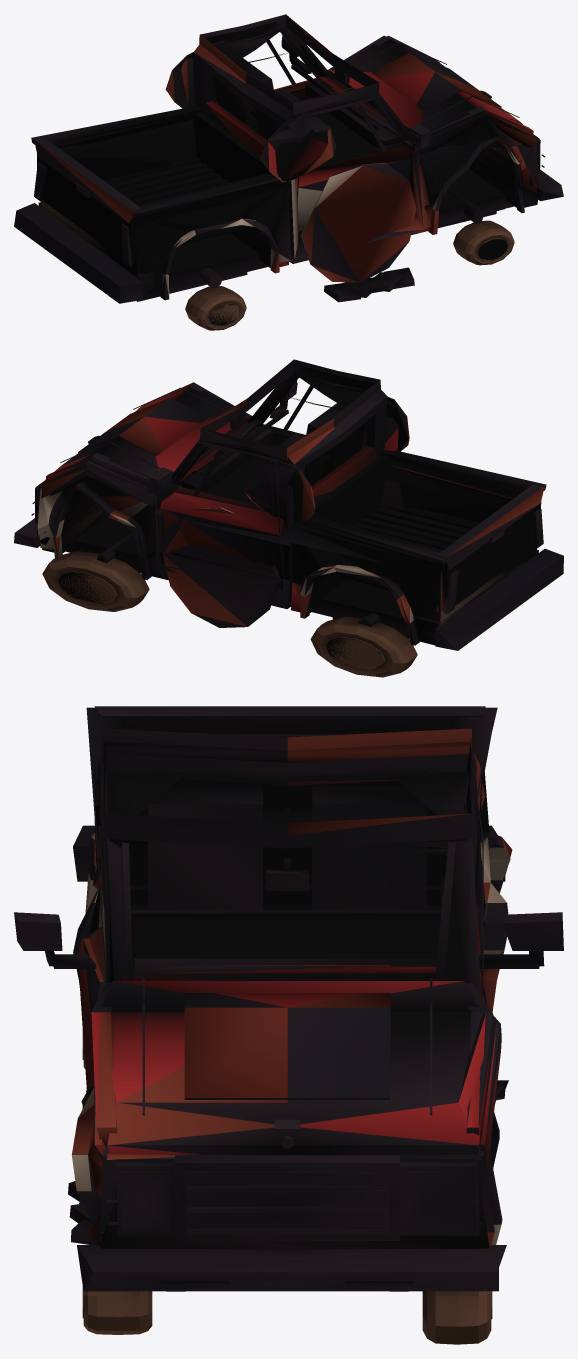
File: model.burned.glb
3 views of the same model, one above another, from view 1: azimuth 30°, elevation 25°; view 2: azimuth 150°, elevation 25°; view 3: azimuth 270°, elevation 25° (orthographic). The views are drawn at different scales.
Parts seen in each view (by area): view 1: body_pal_uiDark, body_pal_brick, body_pal_survivorRed, body_pal_picketWhite, wheelRL_pal_sidewalk, wheelFL_pal_sidewalk; view 2: body_pal_uiDark, body_pal_brick, body_pal_survivorRed, body_pal_picketWhite, wheelRR_pal_sidewalk, wheelFR_pal_sidewalk; view 3: body_pal_uiDark, body_pal_brick, body_pal_survivorRed, wheelFR_pal_sidewalk, body_pal_picketWhite, wheelFL_pal_sidewalk.
Boxes of the visible parts, left/top/right/bottom form: body_pal_uiDark: left=14, top=14, right=563, bottom=303; body_pal_brick: left=35, top=16, right=538, bottom=282; body_pal_survivorRed: left=38, top=60, right=534, bottom=301; body_pal_picketWhite: left=40, top=141, right=519, bottom=297; wheelRL_pal_sidewalk: left=185, top=286, right=246, bottom=330; wheelFL_pal_sidewalk: left=453, top=220, right=514, bottom=265; body_pal_uiDark: left=14, top=359, right=563, bottom=650; body_pal_brick: left=41, top=378, right=546, bottom=626; body_pal_survivorRed: left=36, top=383, right=512, bottom=625; body_pal_picketWhite: left=37, top=476, right=536, bottom=624; wheelRR_pal_sidewalk: left=310, top=616, right=417, bottom=677; wheelFR_pal_sidewalk: left=42, top=551, right=149, bottom=611; body_pal_uiDark: left=14, top=706, right=563, bottom=1291; body_pal_brick: left=72, top=707, right=512, bottom=1248; body_pal_survivorRed: left=91, top=720, right=496, bottom=1247; wheelFR_pal_sidewalk: left=422, top=1291, right=492, bottom=1344; body_pal_picketWhite: left=72, top=778, right=510, bottom=1244; wheelFL_pal_sidewalk: left=82, top=1286, right=152, bottom=1334.
Size of the model in its own units: 4.73 by 2.11 by 2.56.
